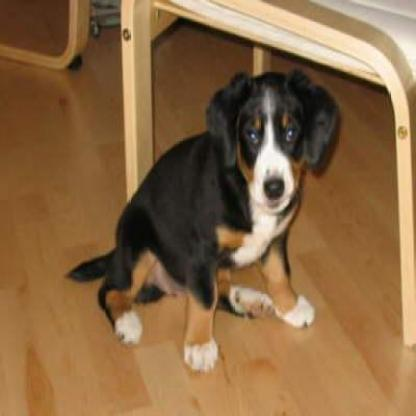EntleBucher: (66, 65, 338, 369)
